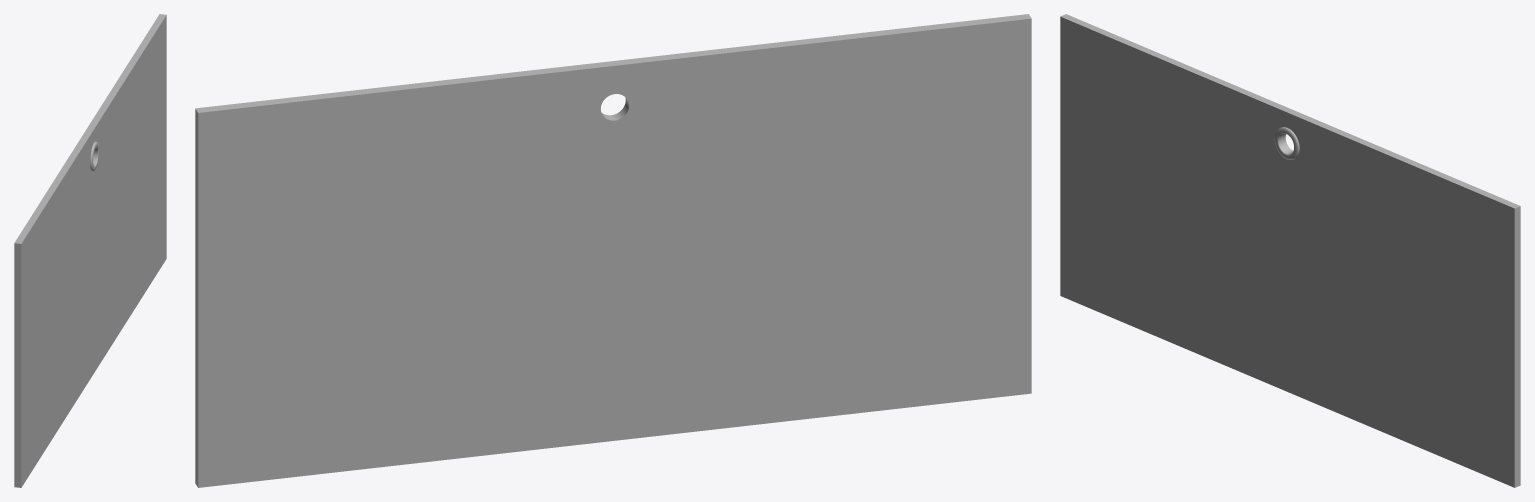
The model's file is cabinet_door_03.glb.
The picture shows the model from 3 angles, left to right: view 1: azimuth 30°, elevation 25°; view 2: azimuth 150°, elevation 25°; view 3: azimuth 270°, elevation 25°; orthographic projection. The views are drawn at different scales.
Visible parts, largest first — view 1: cabinet_door_03; view 2: cabinet_door_03; view 3: cabinet_door_03.
Part boxes in pixels (left/top/right/bottom): cabinet_door_03: left=14, top=14, right=166, bottom=487; cabinet_door_03: left=195, top=14, right=1031, bottom=487; cabinet_door_03: left=1060, top=14, right=1520, bottom=487.
Size of the model in its own units: 0.5445 by 0.3644 by 0.5445.
Materials: 1 (1 with a texture image).
